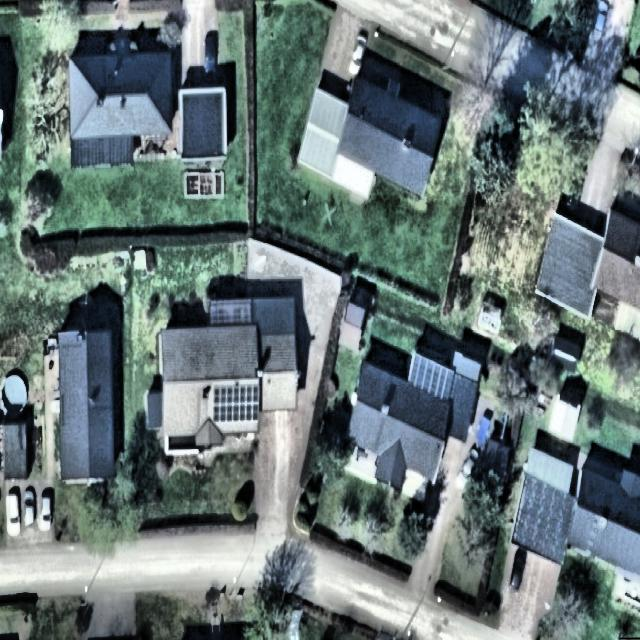roof_pv: (212, 385, 262, 432)
